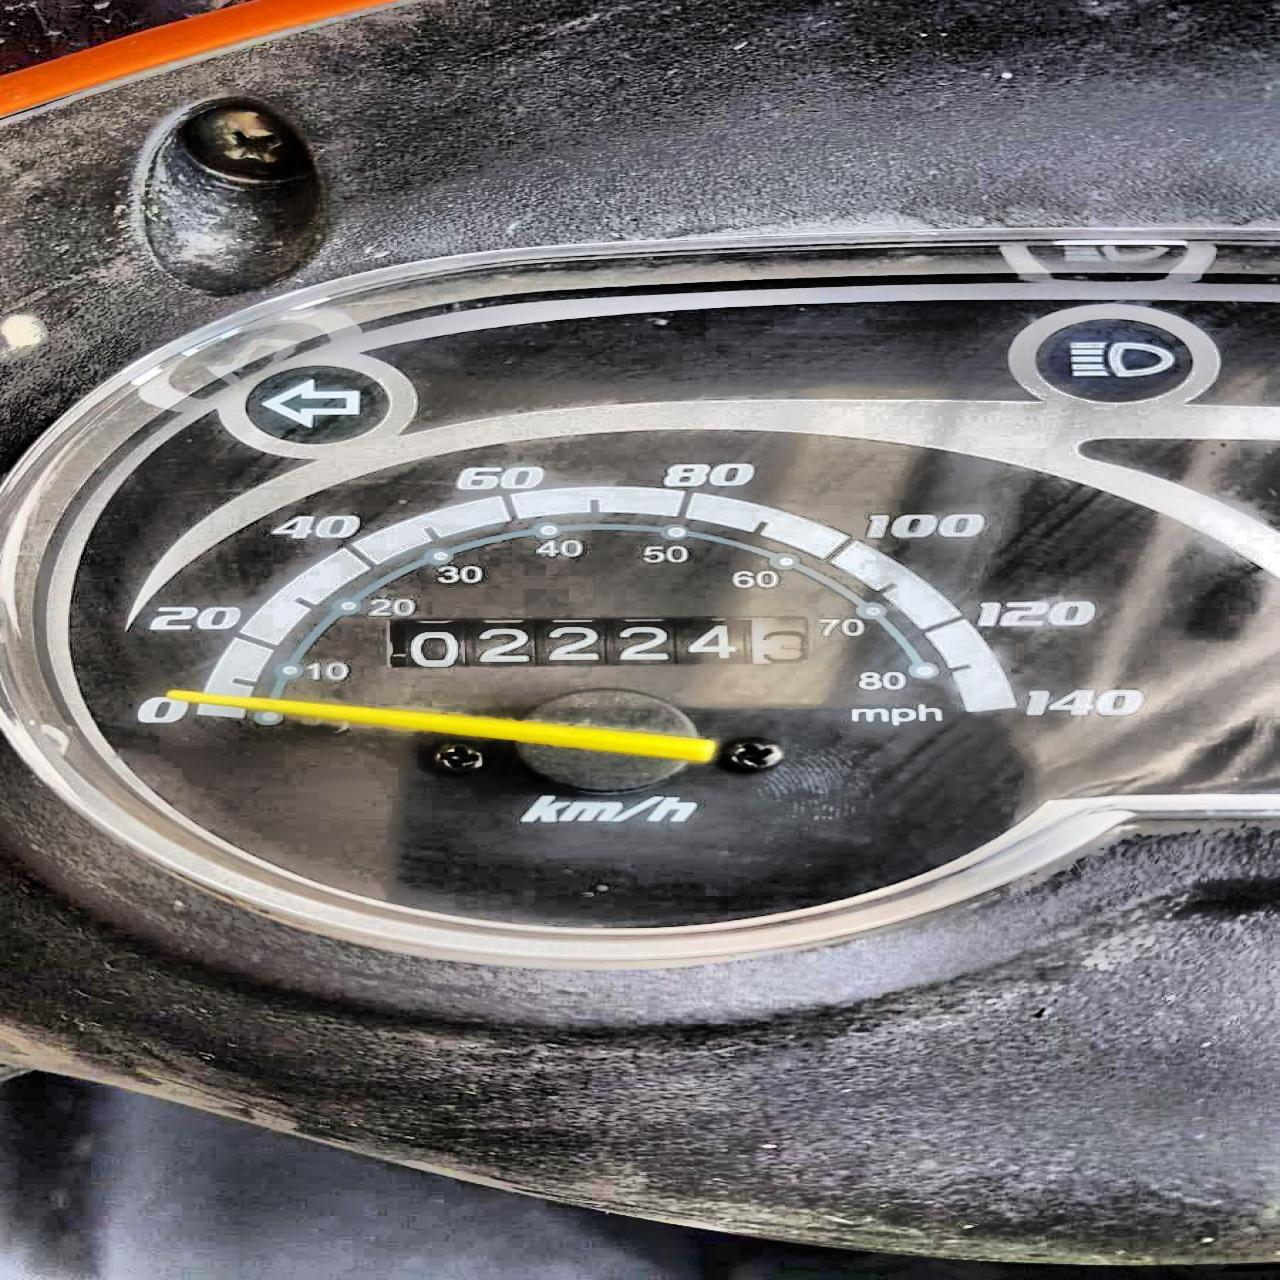0: (404, 625, 461, 667)
2: (474, 625, 530, 666), (615, 624, 672, 663), (546, 622, 599, 663)
3: (753, 626, 810, 667)
4: (686, 624, 736, 661)
odometer: (384, 617, 813, 670)
